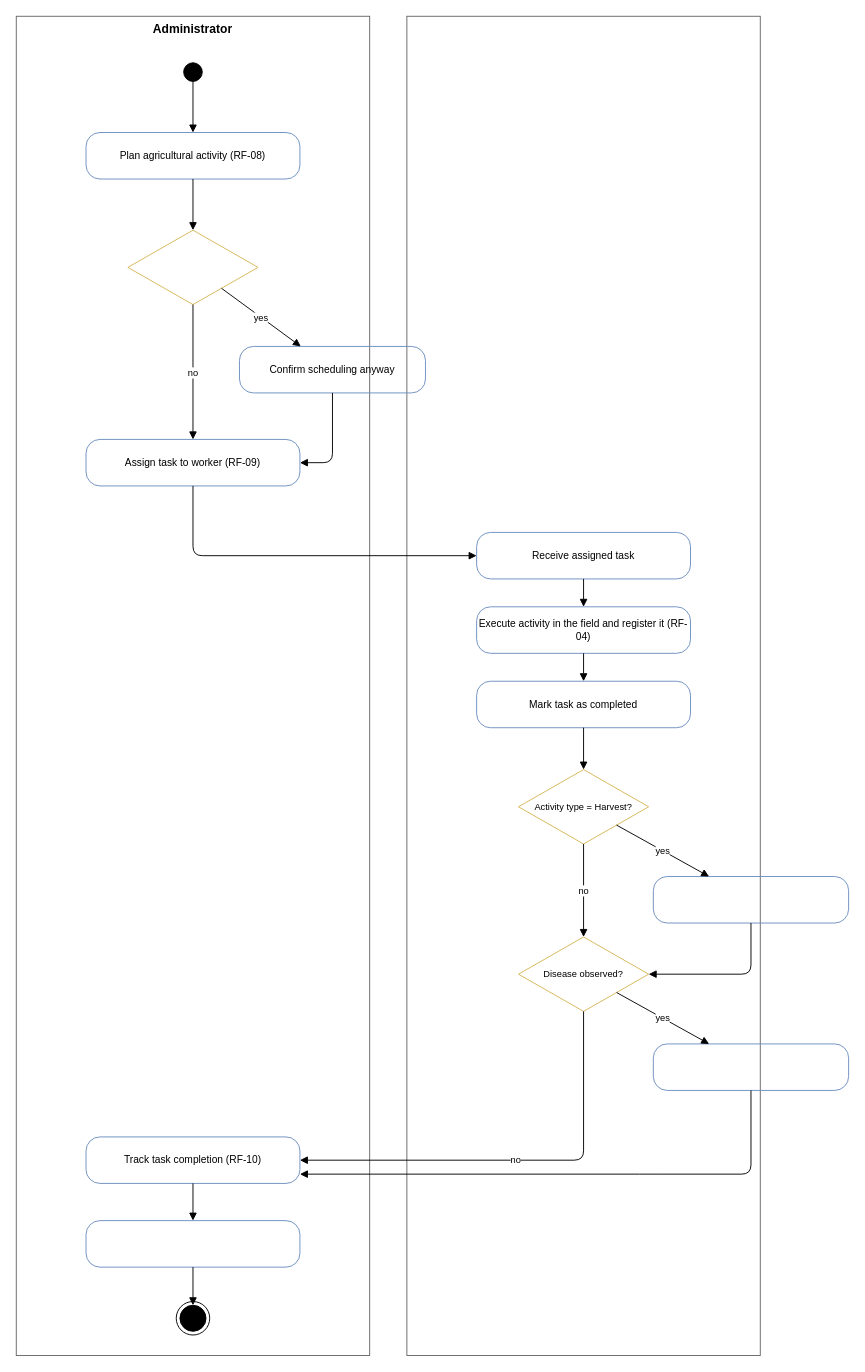
Image size: 865x1372. Some labels were removed from this diagram. Each missing label, with the box of its shape:
Farmworker: (406, 15, 760, 1355)
Generate production report (RF-11) — on demand: (85, 1220, 300, 1267)
Register harvest (quantity, unit) (RF-05): (652, 876, 849, 923)
Report crop disease (RF-16): (652, 1043, 849, 1090)
Scheduling conflict?: (127, 229, 258, 305)
